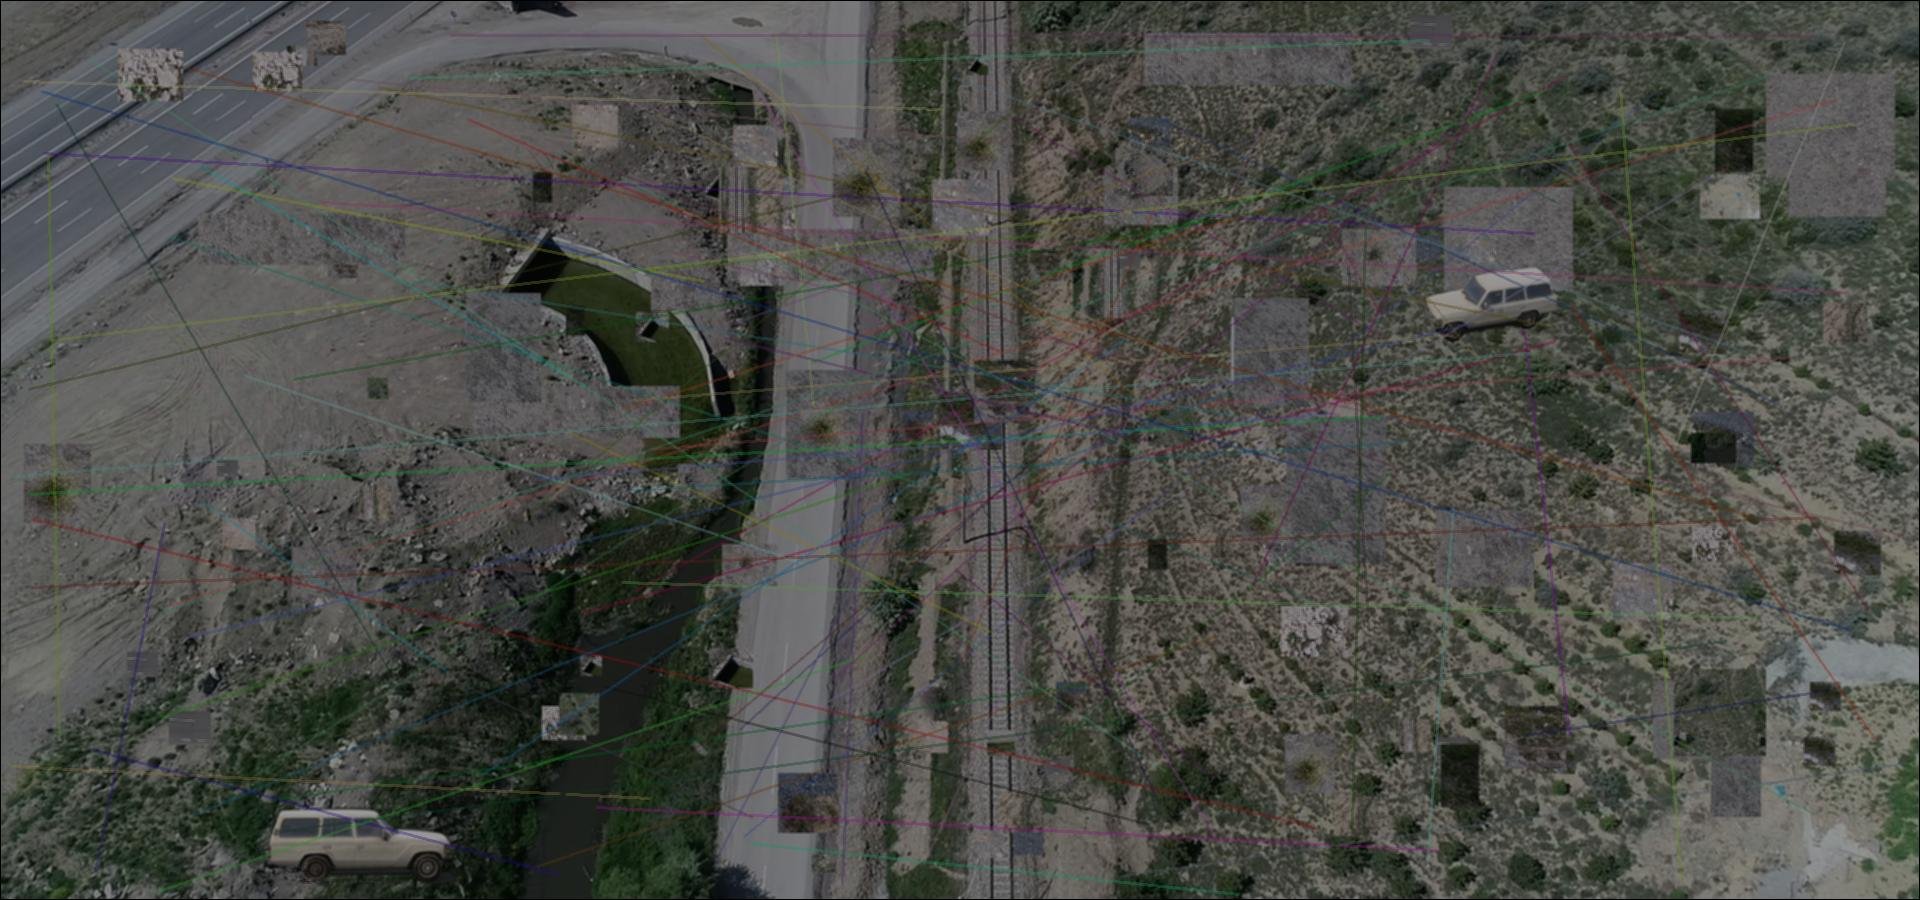arac: (261, 806, 456, 883), (1423, 268, 1558, 343)
